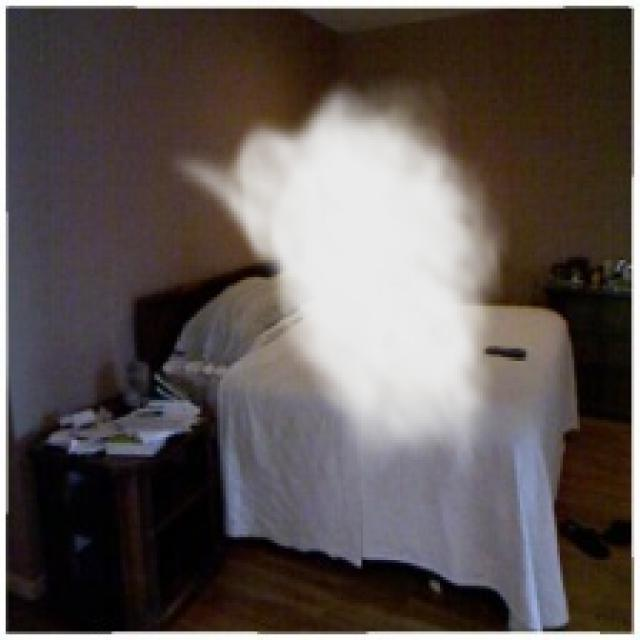Smoke: (166, 71, 512, 483)
